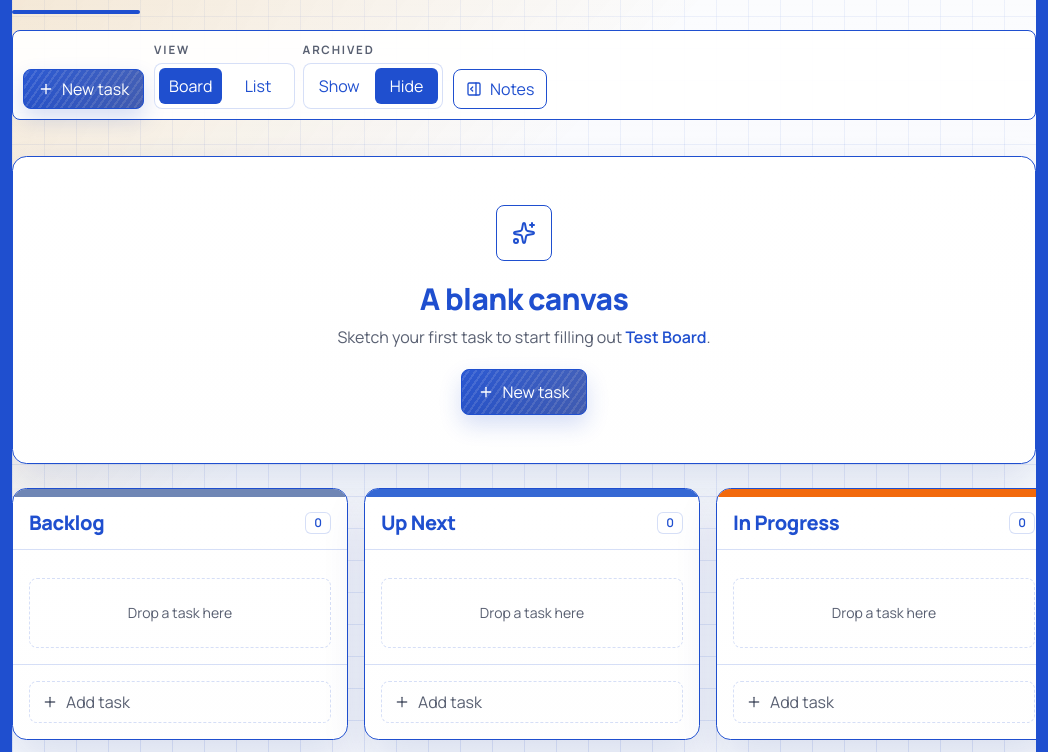
Test case: BoardWorkspace quick-add › closes the composer without creating when Escape is pressed
The width and height of the screenshot is (1048, 752).
(page scrolled)
Click the button with aria-label "Add task to Up Next".
click(450, 702)  # box [381, 680, 683, 722]
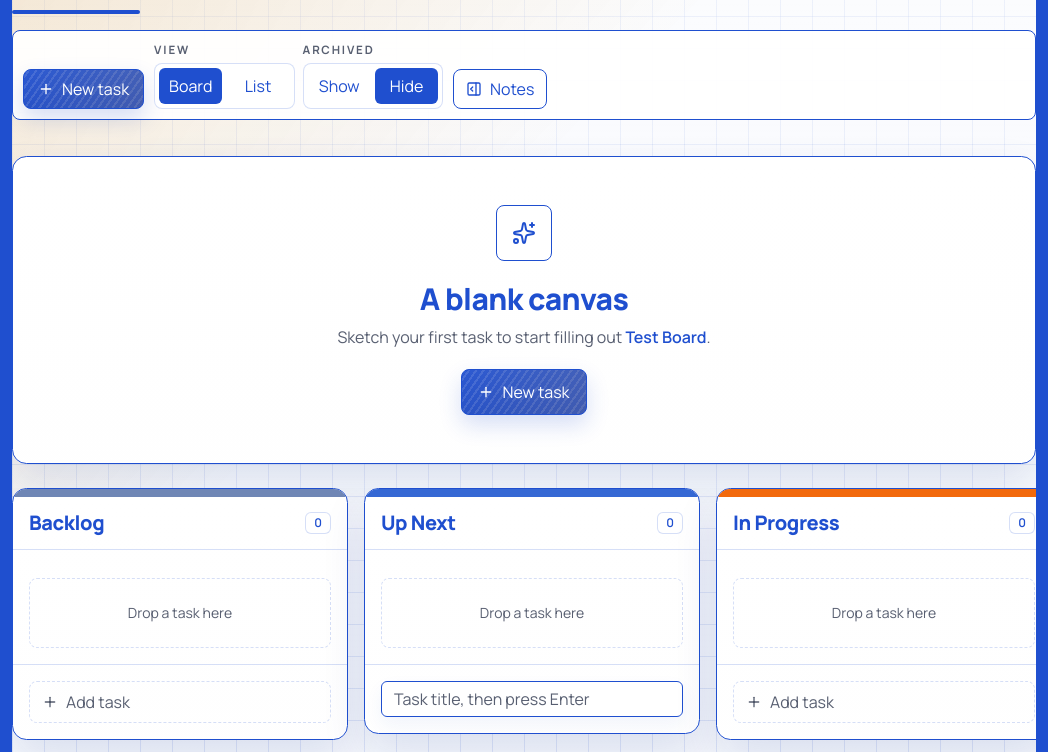
Type "Draft task" into the field named "Add task to Up Next".
click(532, 698); type("Draft task")  # box [381, 680, 683, 716]
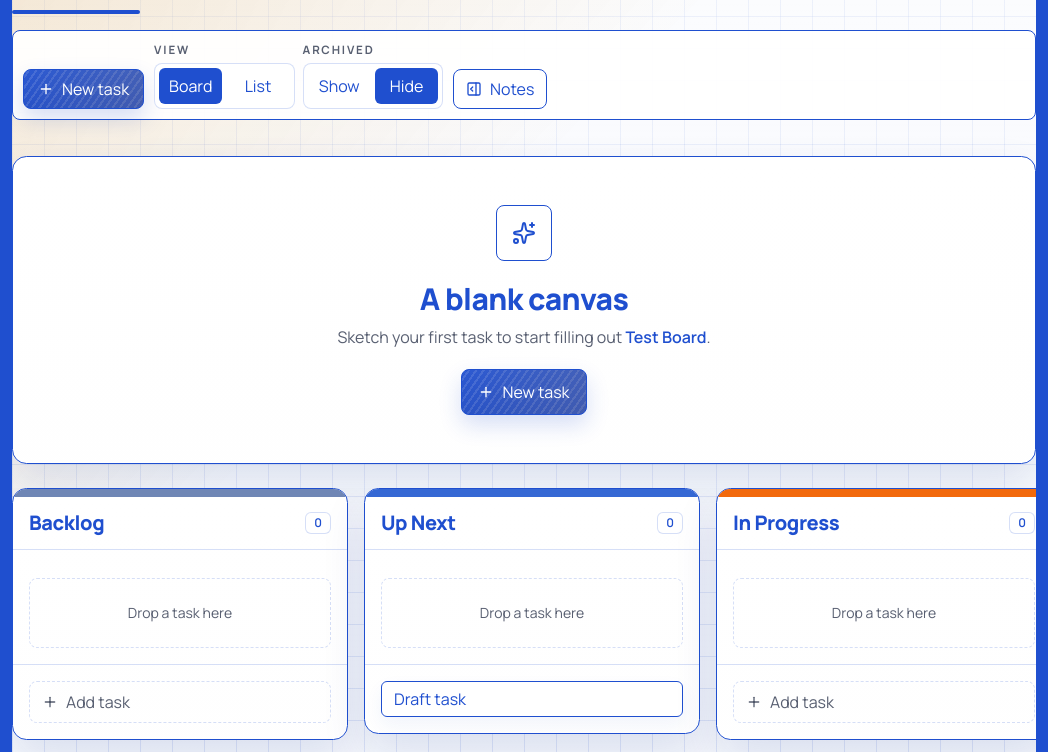
Press Escape in the field named "Add task to Up Next", box [381, 680, 683, 716]
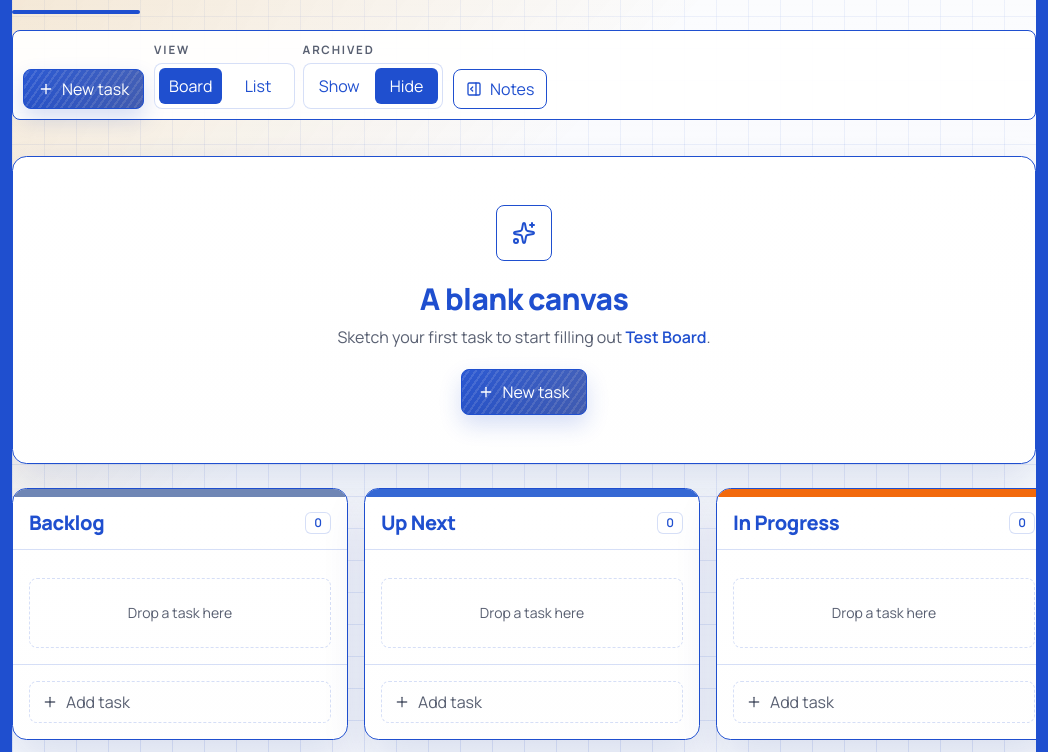
Expected: the button with aria-label "Add task to Up Next" is shown, [381, 680, 683, 722]
